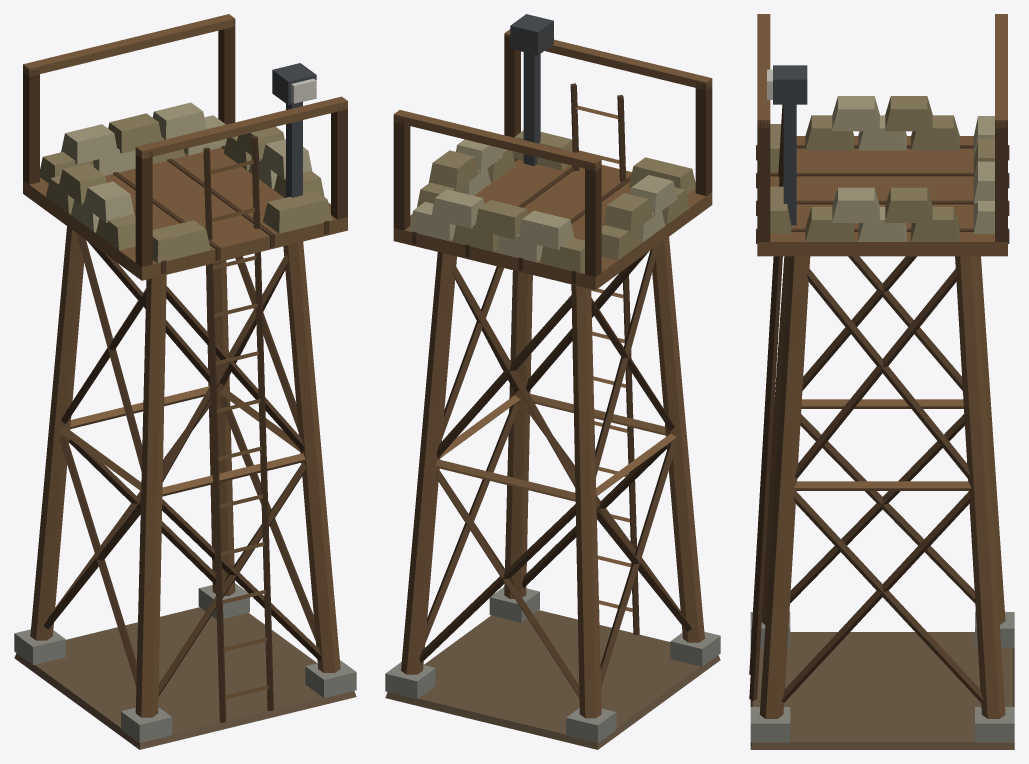
The model's file is watchtower_l1.glb.
3 views of the same model, side by side, from view 1: azimuth 30°, elevation 25°; view 2: azimuth 150°, elevation 25°; view 3: azimuth 270°, elevation 25° (orthographic). The views are drawn at different scales.
Parts seen in each view (by area): view 1: watchtower_l1_mesh; view 2: watchtower_l1_mesh; view 3: watchtower_l1_mesh.
Boxes of the visible parts, bbox=[...] form: watchtower_l1_mesh: bbox=[14, 14, 356, 749]; watchtower_l1_mesh: bbox=[385, 14, 720, 749]; watchtower_l1_mesh: bbox=[749, 14, 1014, 749].
Bounding box in the file's own units: 2 × 5.47 × 2.01.
